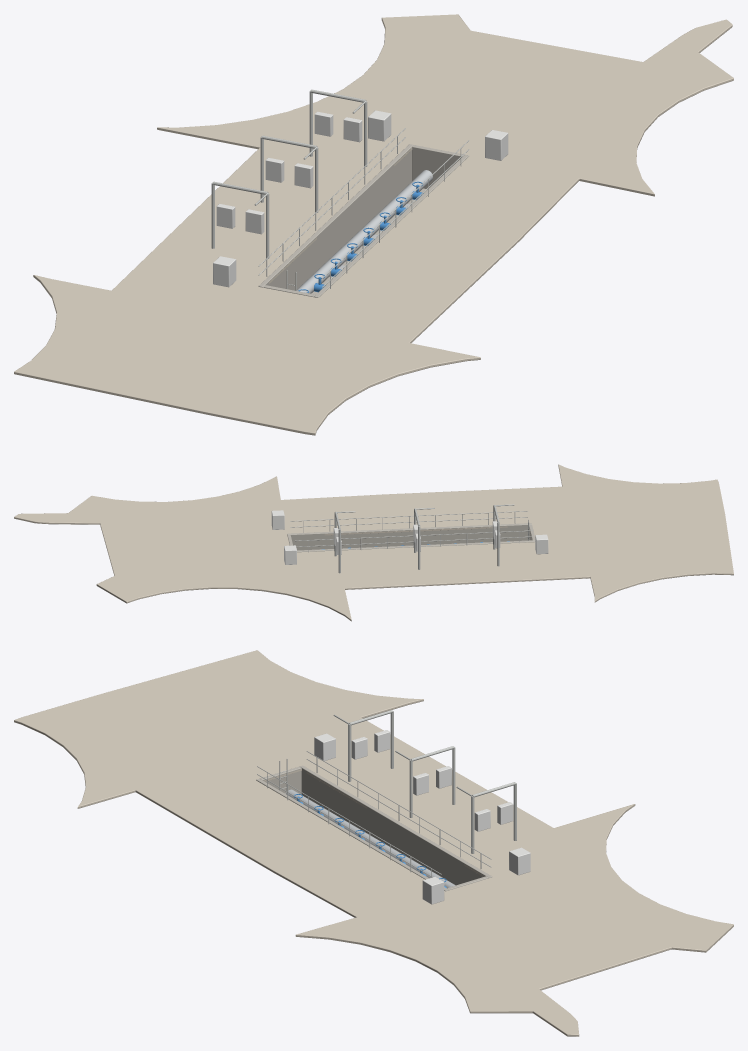
The model's file is Fosse_vannes_LB.glb.
The picture shows the model from 3 angles, top to bottom: view 1: azimuth 30°, elevation 25°; view 2: azimuth 150°, elevation 25°; view 3: azimuth 270°, elevation 25°; orthographic projection. The views are drawn at different scales.
Visible parts, largest first — view 1: Plateforme_dalle, Fosse_parois, Coffrets_electriques, Inox_portiques, Conduite_principale, Vannes_bleues; view 2: Plateforme_dalle, Fosse_parois, Inox_portiques, Coffrets_electriques; view 3: Plateforme_dalle, Fosse_parois, Coffrets_electriques, Inox_portiques, Conduite_principale.
Boxes of the visible parts, x1=… form: Plateforme_dalle: x1=14, y1=14, x2=733, y2=435; Fosse_parois: x1=258, y1=144, x2=468, y2=297; Coffrets_electriques: x1=213, y1=110, x2=508, y2=287; Inox_portiques: x1=211, y1=89, x2=469, y2=290; Conduite_principale: x1=296, y1=170, x2=432, y2=293; Vannes_bleues: x1=298, y1=181, x2=423, y2=292; Plateforme_dalle: x1=14, y1=464, x2=733, y2=621; Fosse_parois: x1=287, y1=523, x2=535, y2=552; Inox_portiques: x1=290, y1=504, x2=532, y2=573; Coffrets_electriques: x1=271, y1=510, x2=548, y2=564; Plateforme_dalle: x1=14, y1=650, x2=733, y2=1036; Fosse_parois: x1=256, y1=765, x2=492, y2=891; Coffrets_electriques: x1=314, y1=730, x2=530, y2=904; Inox_portiques: x1=257, y1=710, x2=516, y2=877; Conduite_principale: x1=286, y1=789, x2=455, y2=887.
Size of the model in its own units: 51.93 by 6.04 by 41.09.
6 materials, 6 textured.
